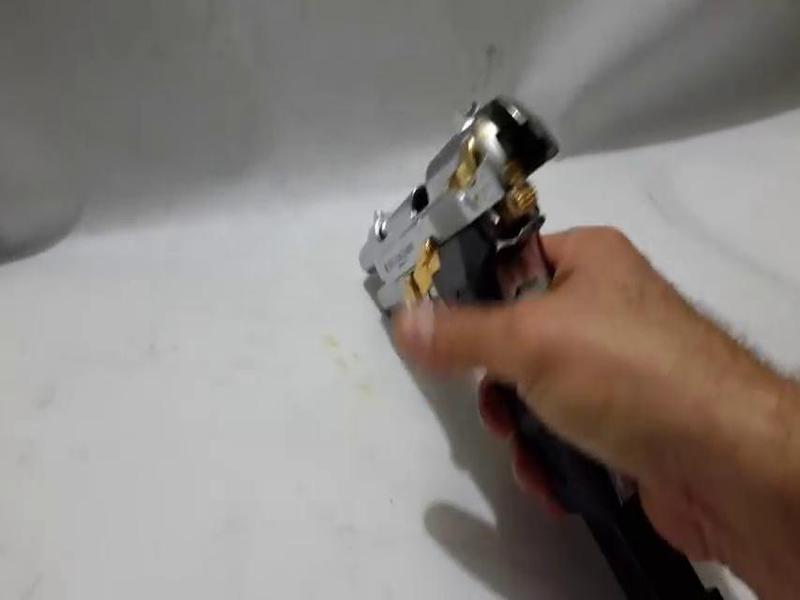Pistola: (346, 75, 618, 388)
